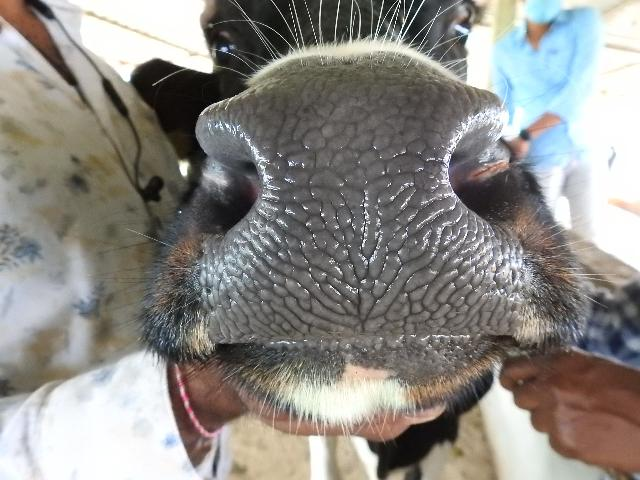Muzzle: (211, 90, 521, 332)
